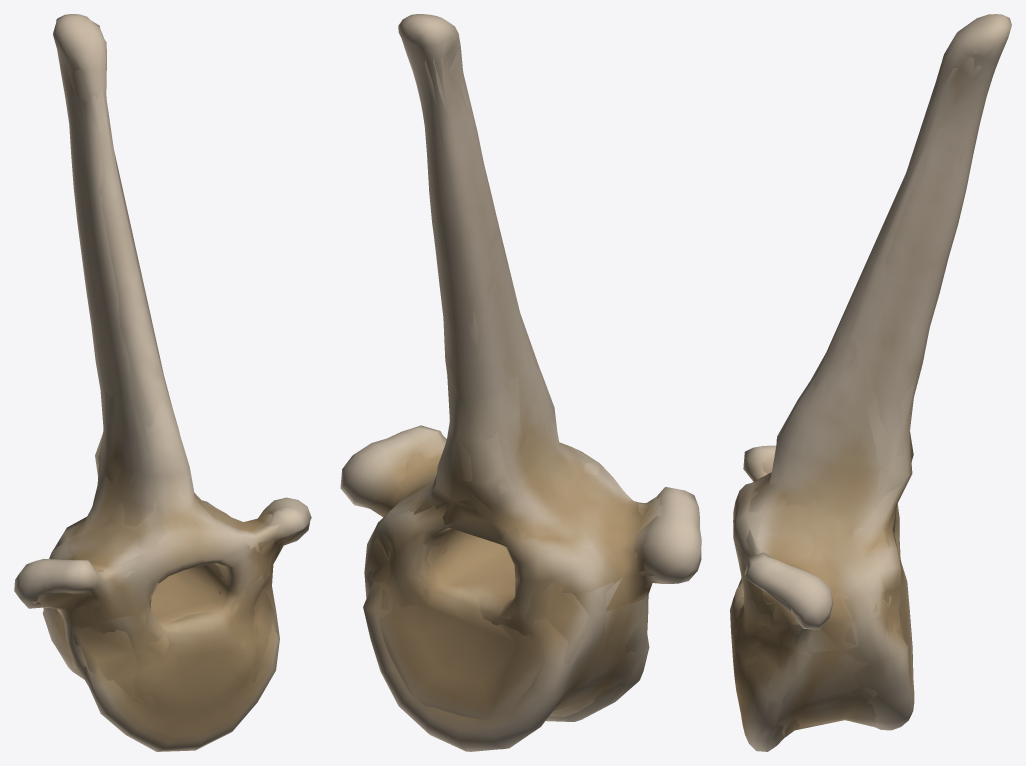
Rendered from vertebrae thoracicae 02.fbx.
3 renders of one model, left to right at view 1: azimuth 30°, elevation 25°; view 2: azimuth 150°, elevation 25°; view 3: azimuth 270°, elevation 25°, orthographic. The views are drawn at different scales.
Parts seen in each view (by area): view 1: vertebrae thoracicae 02, vertebrae thoracicae 02 low; view 2: vertebrae thoracicae 02, vertebrae thoracicae 02 low; view 3: vertebrae thoracicae 02, vertebrae thoracicae 02 low.
Boxes of the visible parts, x1,y1,x2,y2 form: vertebrae thoracicae 02: [14, 14, 311, 751]; vertebrae thoracicae 02 low: [32, 51, 305, 709]; vertebrae thoracicae 02: [340, 14, 701, 751]; vertebrae thoracicae 02 low: [361, 43, 662, 720]; vertebrae thoracicae 02: [730, 14, 1011, 751]; vertebrae thoracicae 02 low: [734, 49, 996, 736].
Size of the model in its own units: 10.55 by 22.81 by 8.1.
Materials: 1 (1 with a texture image).
